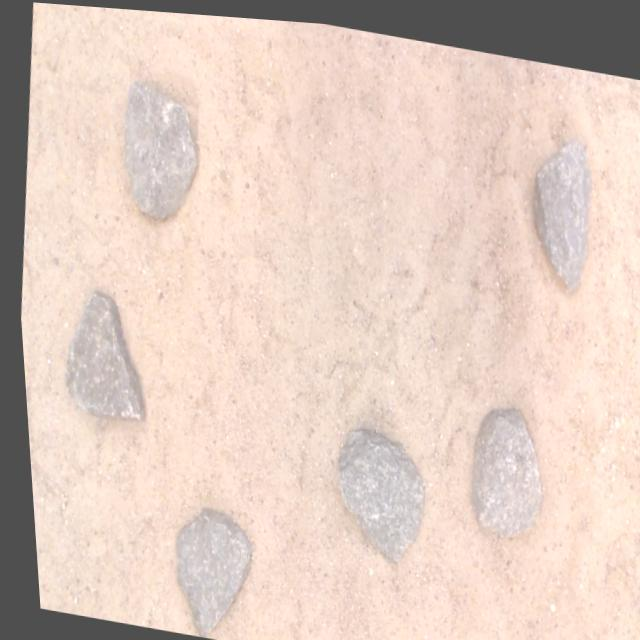rock: (332, 423, 416, 555), (60, 290, 138, 417), (122, 79, 193, 216), (168, 506, 243, 635), (464, 402, 534, 528), (531, 131, 588, 282)
